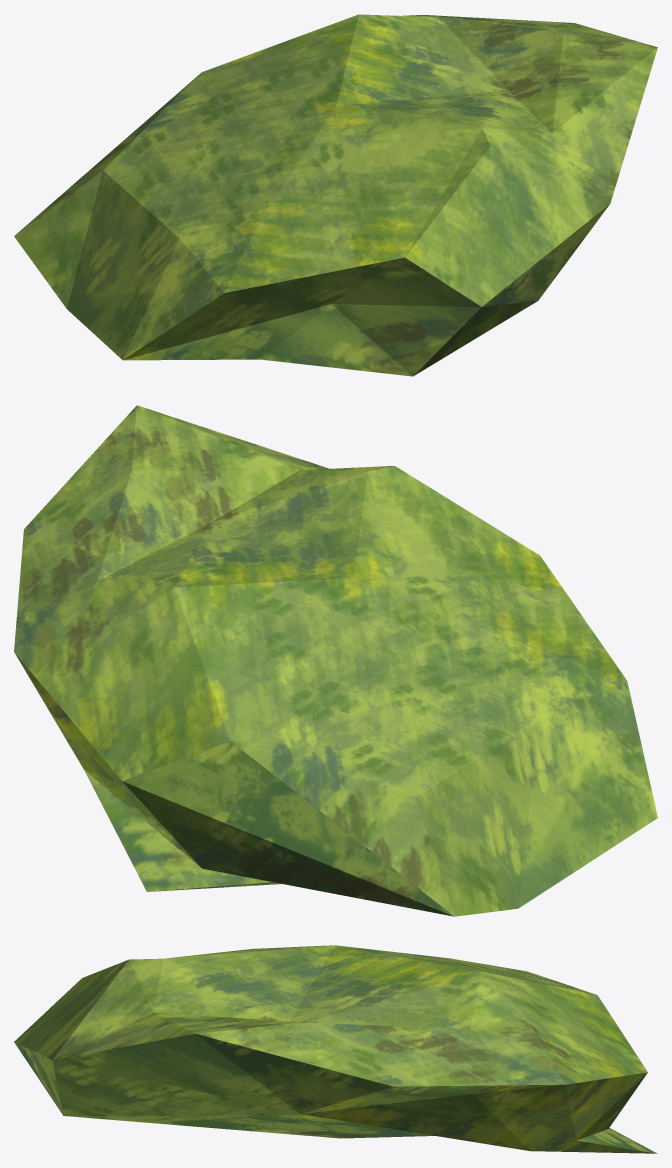
File: foliage4.glb
The picture shows the model from 3 angles, top to bottom: view 1: azimuth 30°, elevation 25°; view 2: azimuth 150°, elevation 25°; view 3: azimuth 270°, elevation 25°; orthographic projection. The views are drawn at different scales.
Parts seen in each view (by area): view 1: foliage4; view 2: foliage4; view 3: foliage4.
Part boxes in pixels (x1,y1,x2,y2): foliage4: [14, 14, 657, 376]; foliage4: [14, 405, 657, 916]; foliage4: [14, 945, 657, 1153].
Bounding box in the file's own units: 17.26 × 7.84 × 17.61.
Materials: 1 (1 with a texture image).
